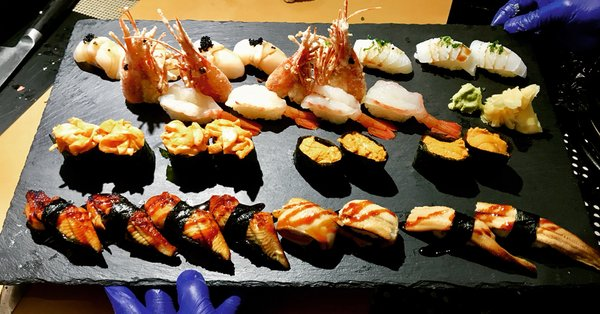sushi: (50, 116, 156, 194), (160, 118, 263, 196), (294, 134, 350, 197)
